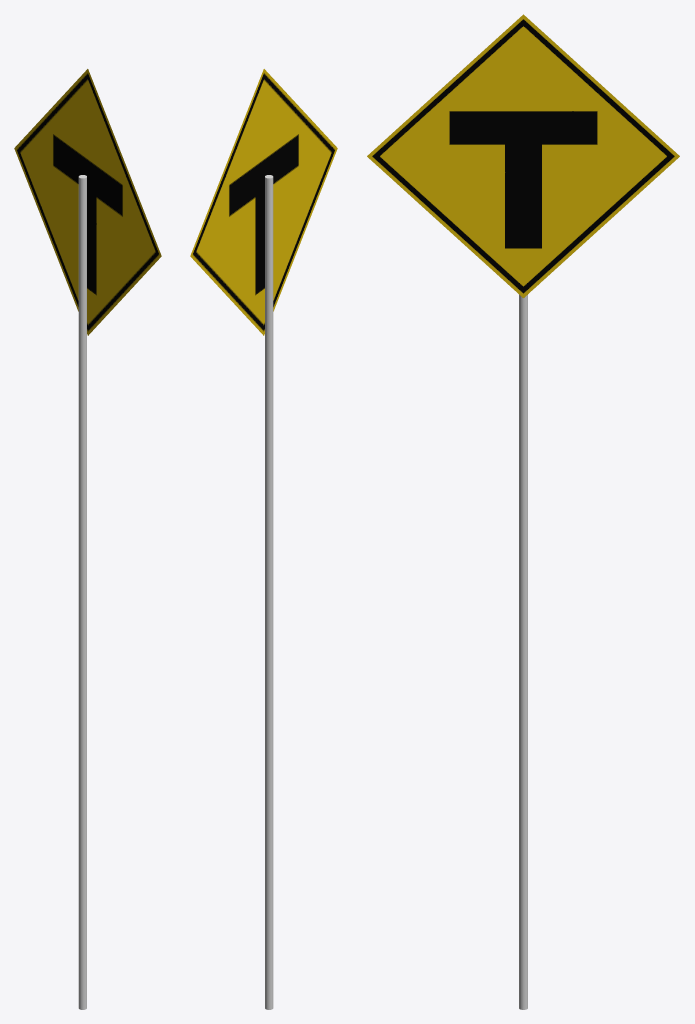
Rendered from simpang3.fbx.
3 renders of one model, left to right at view 1: azimuth 30°, elevation 25°; view 2: azimuth 150°, elevation 25°; view 3: azimuth 270°, elevation 25°, orthographic. The views are drawn at different scales.
Visible parts, largest first — view 1: simpang-3, Cylinder; view 2: simpang-3, Cylinder; view 3: simpang-3, Cylinder.
Part boxes in pixels (bbox=[...]): simpang-3: bbox=[14, 69, 161, 335]; Cylinder: bbox=[78, 175, 86, 1009]; simpang-3: bbox=[190, 69, 337, 335]; Cylinder: bbox=[265, 175, 273, 1009]; simpang-3: bbox=[367, 14, 679, 297]; Cylinder: bbox=[519, 294, 527, 1009].
Size of the model in its own units: 3.43 by 350 by 100.
